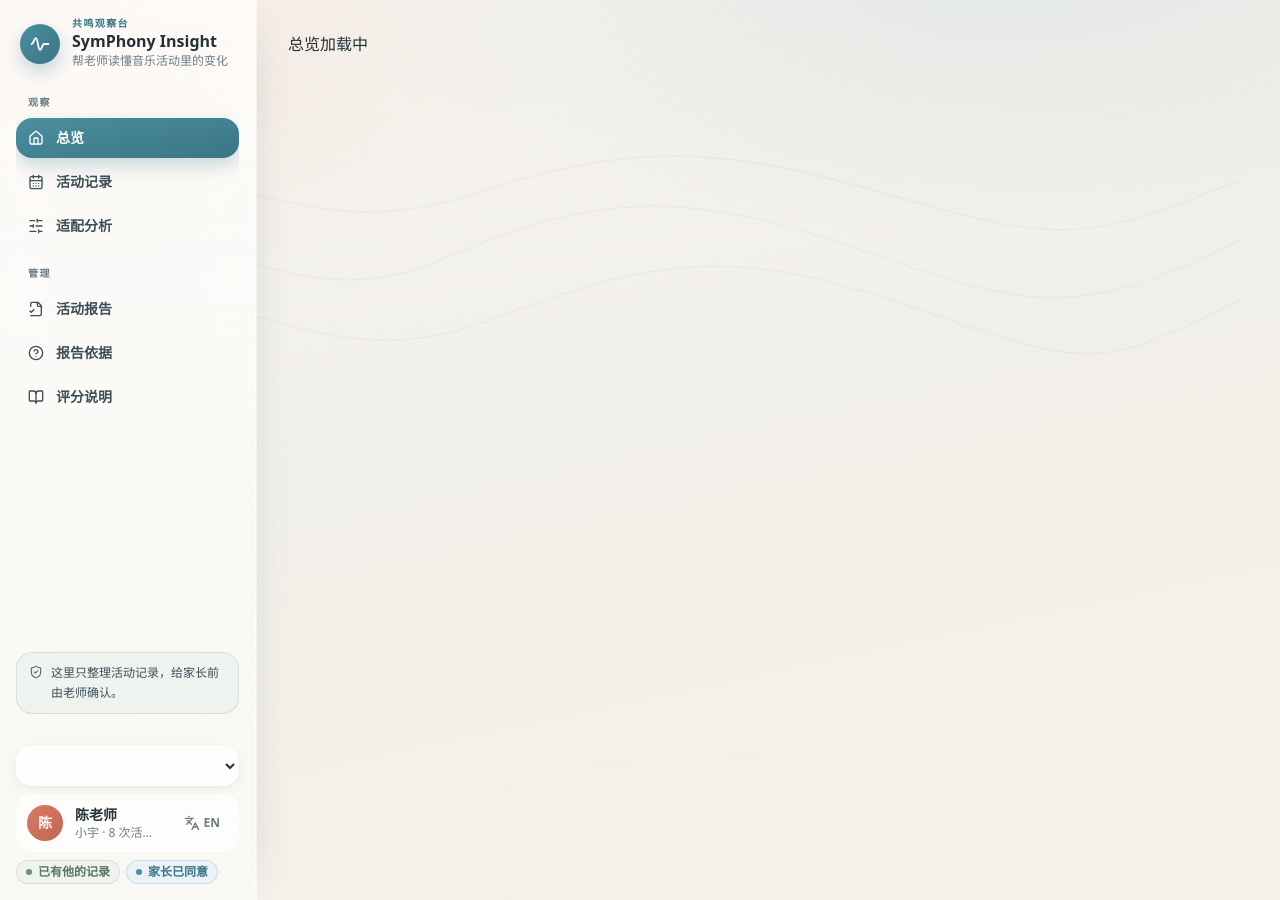
it: App shell › switches core navigation and header copy to English
Click the button "EN": click(202, 823) 176,807 -> 228,839
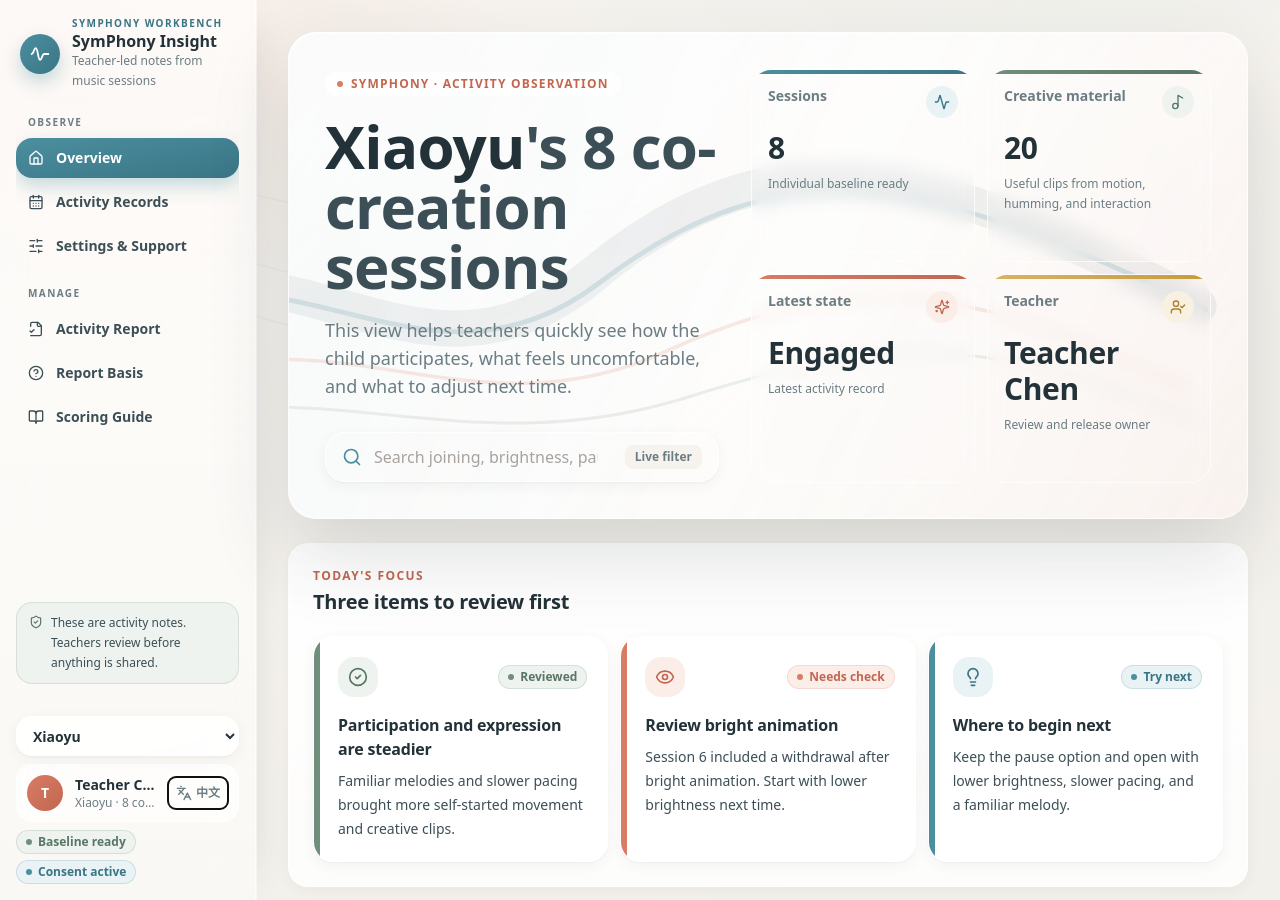
Expected: the link "Overview" is shown, 16,138 -> 239,178
Expected: the link "Activity Records" is shown, 28,192 -> 168,211
Expected: the link "Settings & Support" is shown, 28,236 -> 187,255
